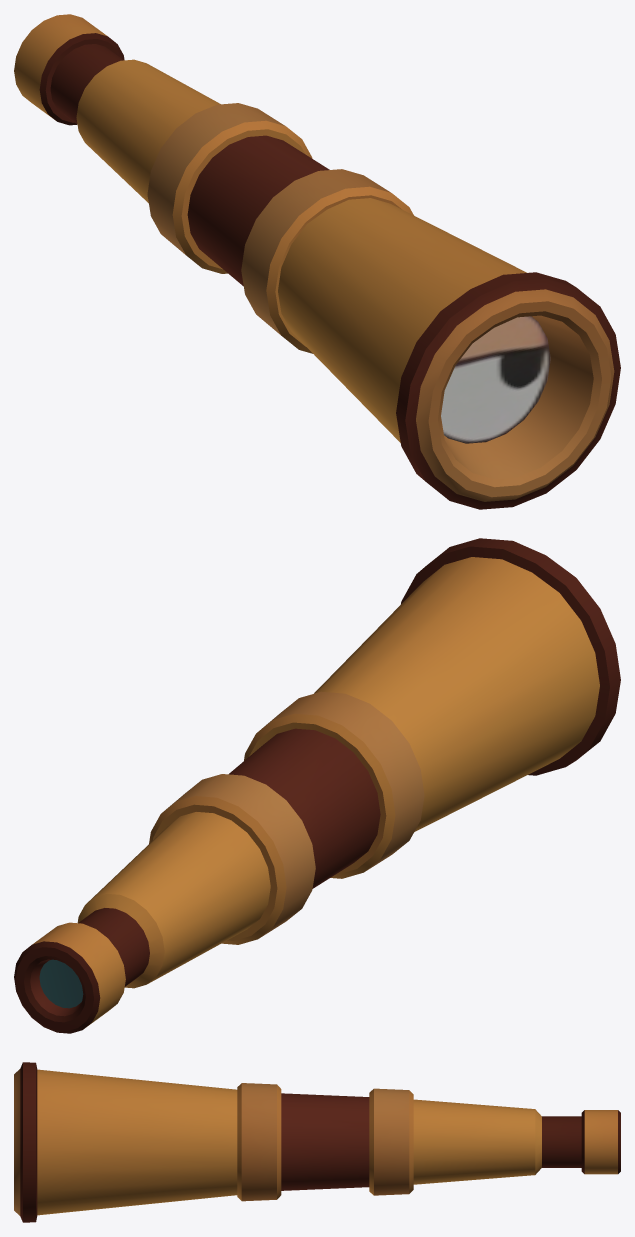
Rendered from Look_03.fbx.
3 views of the same model, one above another, from view 1: azimuth 30°, elevation 25°; view 2: azimuth 150°, elevation 25°; view 3: azimuth 270°, elevation 25° (orthographic). The views are drawn at different scales.
Parts seen in each view (by area): view 1: Look_03; view 2: Look_03; view 3: Look_03.
Part boxes in pixels (box(x1,y1,x2,y2)): Look_03: box(14, 14, 620, 509); Look_03: box(14, 538, 620, 1033); Look_03: box(14, 1062, 620, 1222).
Bounding box in the file's own units: 39.41 × 39.41 × 147.
2 materials, 2 textured.
